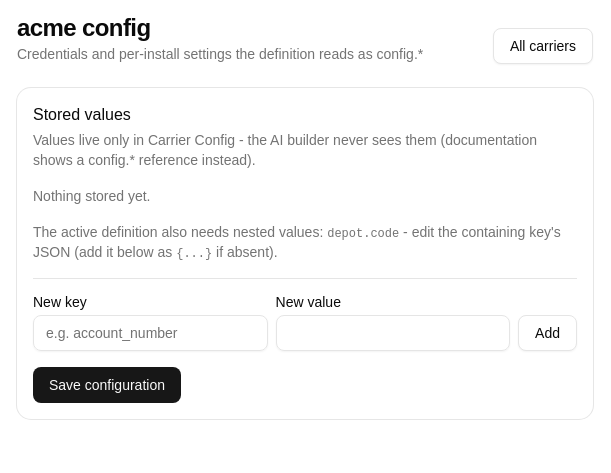
Test: CarrierConfigPage › refuses a dotted New key, naming the containing key
Check: the text "Nothing stored yet." is shown, box x1=33 y1=188 x2=150 y2=204
Type "depot.code" into the field labelled "New key" at {"x": 150, "y": 333}, box x1=33 y1=315 x2=268 y2=351
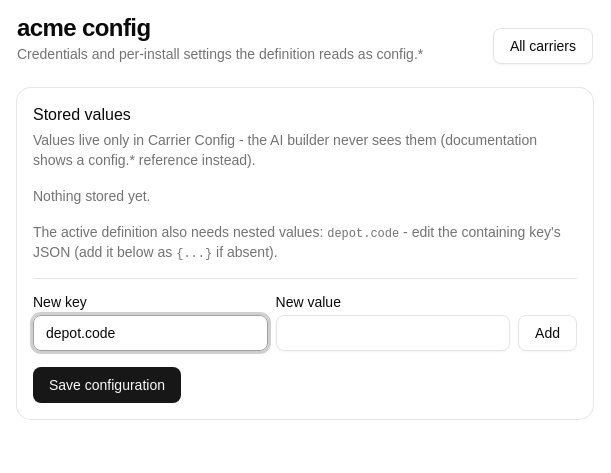
Type "MAN1" into the field labelled "New value" at {"x": 393, "y": 333}, box x1=276 y1=315 x2=510 y2=351
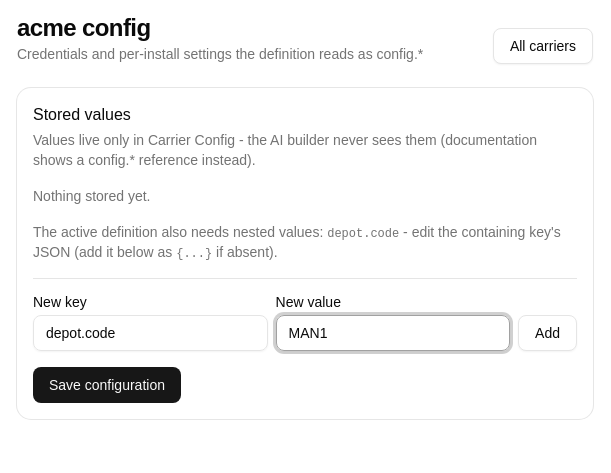
Click the button "Add" at {"x": 548, "y": 333}, box x1=518 y1=315 x2=577 y2=351
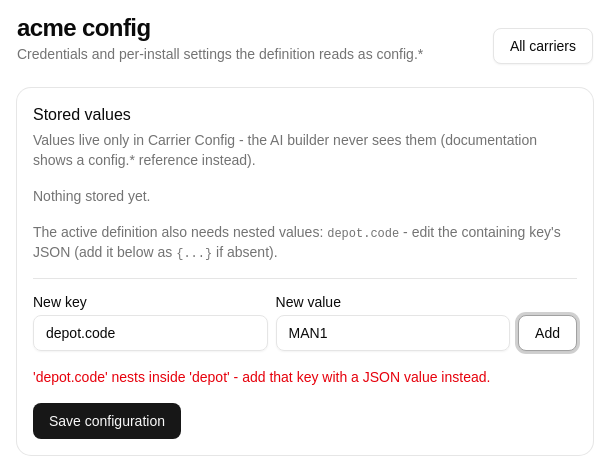
Check: the text "'depot.code' nests inside 'depot' - add that key with a JSON value instead." is shown, box x1=33 y1=369 x2=490 y2=385
